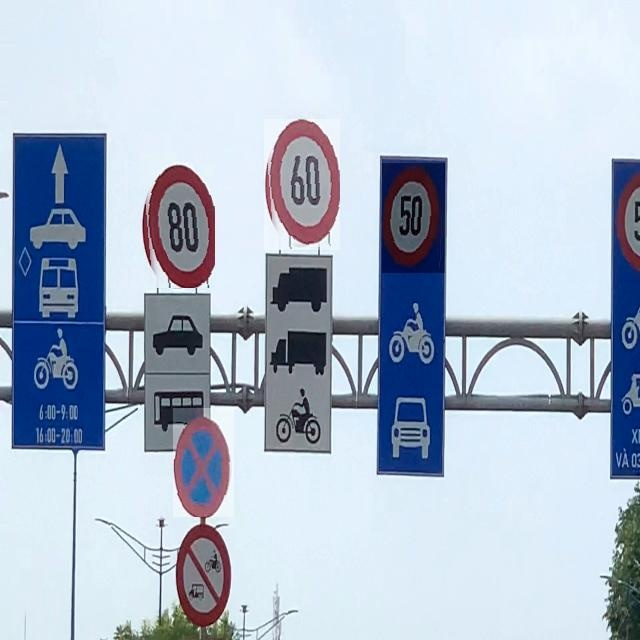bien_cam: (141, 153, 215, 288), (264, 119, 340, 250), (382, 163, 445, 273), (173, 408, 234, 517)
